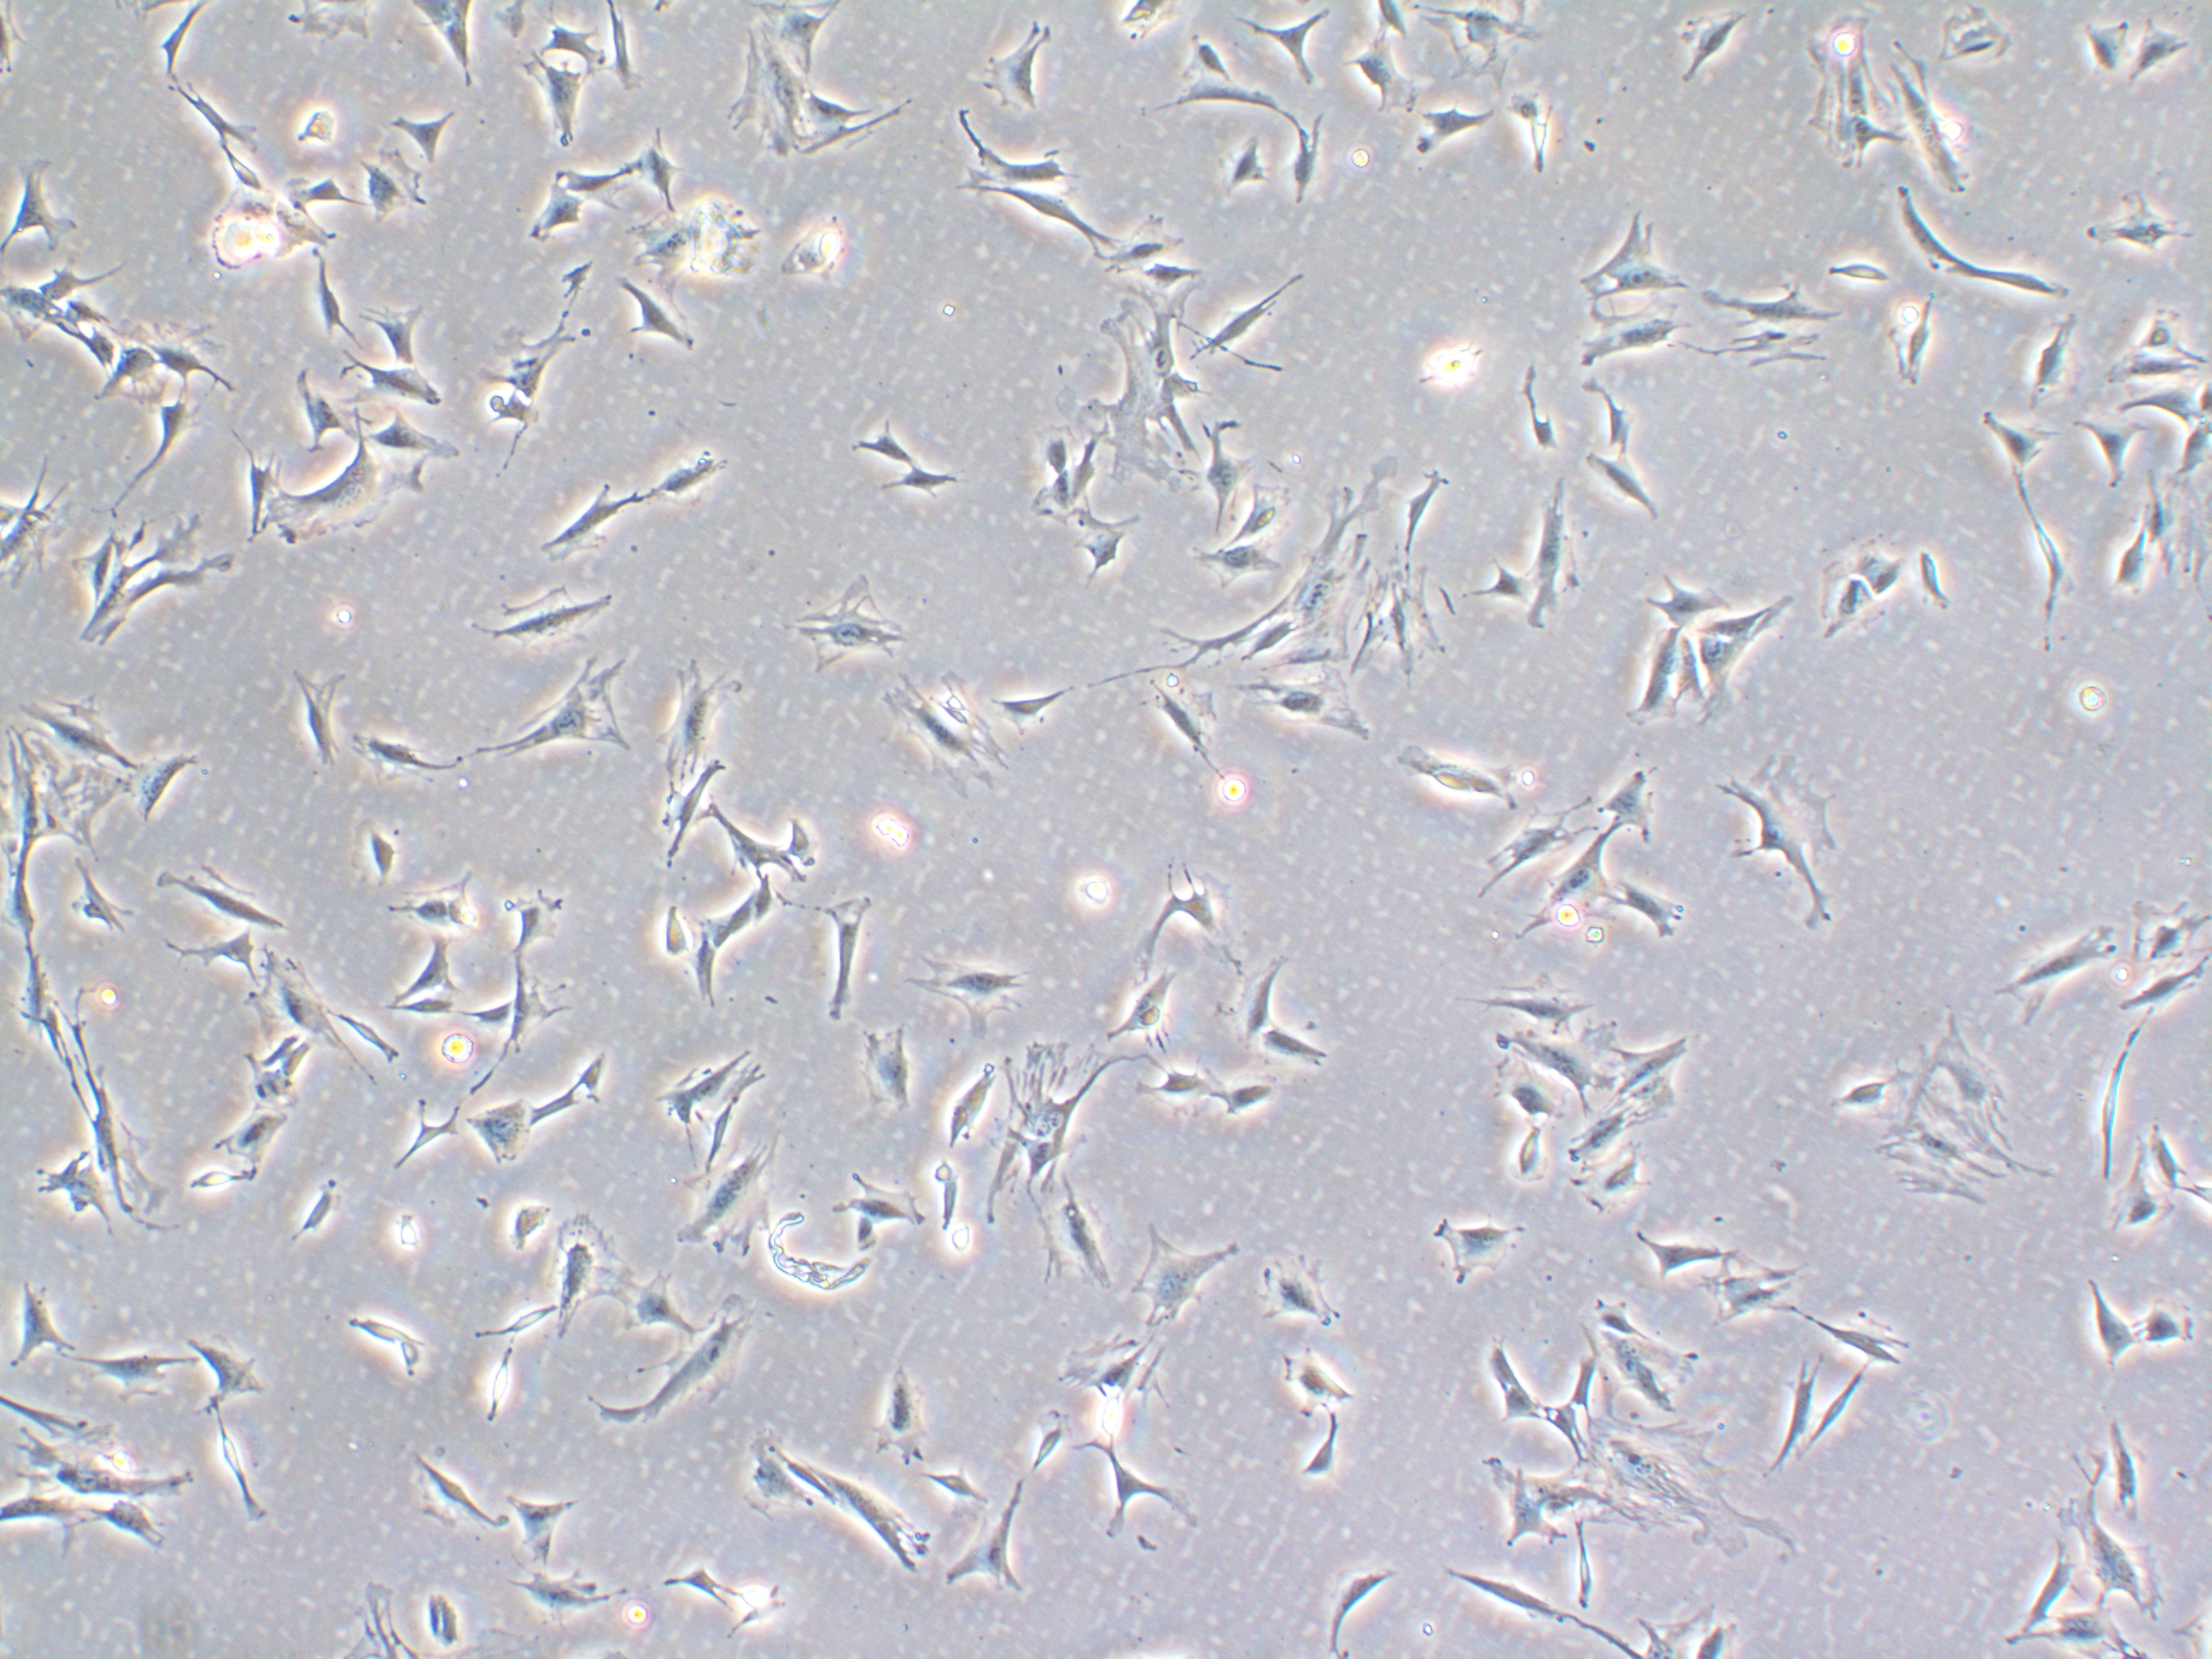small: (615, 884, 697, 972), (331, 803, 402, 892), (171, 1161, 268, 1211)
spread: (1876, 990, 2059, 1236), (1571, 1410, 1799, 1589), (1695, 742, 1876, 948), (1069, 282, 1216, 491), (253, 427, 453, 566), (0, 1420, 195, 1540), (1782, 7, 1914, 181), (866, 655, 1017, 803), (982, 1025, 1103, 1209), (0, 723, 138, 878), (777, 556, 932, 687), (1348, 552, 1461, 706), (1122, 1209, 1245, 1345), (1278, 493, 1378, 660), (723, 19, 833, 162), (674, 1141, 801, 1263), (0, 690, 152, 775)
